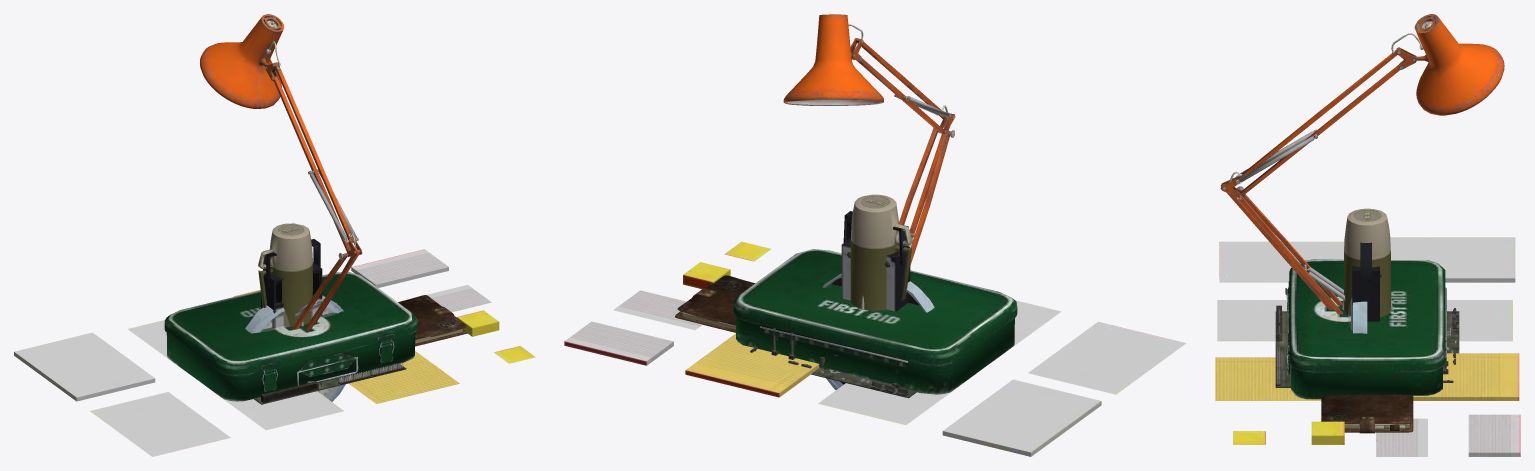
The model's file is bench-small.glb.
3 renders of one model, left to right at view 1: azimuth 30°, elevation 25°; view 2: azimuth 150°, elevation 25°; view 3: azimuth 270°, elevation 25°, orthographic. The views are drawn at different scales.
Visible parts, largest first — view 1: medical_box_lid, desk_lamp_arm_01, medical_box, office_notepads_a4_stack, office_notepads_a4_a, plastic_thermos, office_notepads_yellow_sheet, office_notepads_a4_c, office_notepads_note_stack, binder_notebook_closed, circuit_board, wall_clock (+4 smaller); view 2: medical_box_lid, desk_lamp_arm_01, medical_box, office_notepads_a4_stack, office_notepads_a4_a, plastic_thermos, office_notepads_yellow_pad, office_notepads_a4_b, office_notepads_note_stack, binder_notebook_closed, retro_multimeter_LOD0, office_notepads_note_sheet (+4 smaller); view 3: medical_box_lid, desk_lamp_arm_01, office_notepads_a4_stack, medical_box, office_notepads_yellow_pad, office_notepads_a4_a, binder_notebook_closed, plastic_thermos, office_notepads_yellow_sheet, office_notepads_a4_c, office_notepads_a4_b, office_notepads_note_stack (+7 smaller).
Part boxes in pixels (bbox=[...]): medical_box_lid: bbox=[164, 272, 417, 375]; desk_lamp_arm_01: bbox=[200, 14, 362, 330]; medical_box: bbox=[166, 332, 415, 401]; office_notepads_a4_stack: bbox=[14, 332, 155, 401]; office_notepads_a4_a: bbox=[90, 392, 230, 456]; plastic_thermos: bbox=[258, 223, 312, 326]; office_notepads_yellow_sheet: bbox=[348, 351, 459, 403]; office_notepads_a4_c: bbox=[203, 384, 343, 430]; office_notepads_note_stack: bbox=[351, 249, 448, 287]; binder_notebook_closed: bbox=[398, 295, 467, 346]; circuit_board: bbox=[254, 362, 406, 404]; wall_clock: bbox=[245, 295, 345, 401]; medical_box_lid: bbox=[733, 249, 1017, 365]; desk_lamp_arm_01: bbox=[783, 14, 955, 265]; medical_box: bbox=[735, 316, 1014, 394]; office_notepads_a4_stack: bbox=[942, 379, 1101, 456]; office_notepads_a4_a: bbox=[1028, 321, 1185, 394]; plastic_thermos: bbox=[850, 194, 912, 310]; office_notepads_yellow_pad: bbox=[685, 333, 819, 397]; office_notepads_a4_b: bbox=[818, 374, 975, 425]; office_notepads_note_stack: bbox=[564, 321, 673, 365]; binder_notebook_closed: bbox=[675, 275, 754, 332]; retro_multimeter_LOD0: bbox=[841, 238, 910, 311]; office_notepads_note_sheet: bbox=[613, 290, 702, 330]; medical_box_lid: bbox=[1285, 259, 1445, 372]; desk_lamp_arm_01: bbox=[1220, 14, 1504, 314]; office_notepads_a4_stack: bbox=[1390, 237, 1515, 282]; medical_box: bbox=[1288, 287, 1446, 399]; office_notepads_yellow_pad: bbox=[1413, 353, 1519, 400]; office_notepads_a4_a: bbox=[1219, 241, 1344, 282]; binder_notebook_closed: bbox=[1321, 394, 1413, 433]; plastic_thermos: bbox=[1344, 208, 1390, 317]; office_notepads_yellow_sheet: bbox=[1215, 357, 1321, 400]; office_notepads_a4_c: bbox=[1217, 300, 1288, 341]; office_notepads_a4_b: bbox=[1447, 300, 1512, 341]; office_notepads_note_stack: bbox=[1468, 414, 1520, 456].
Size of the model in its own units: 1.1 by 0.9649 by 0.6598.
16 materials, 15 textured.
